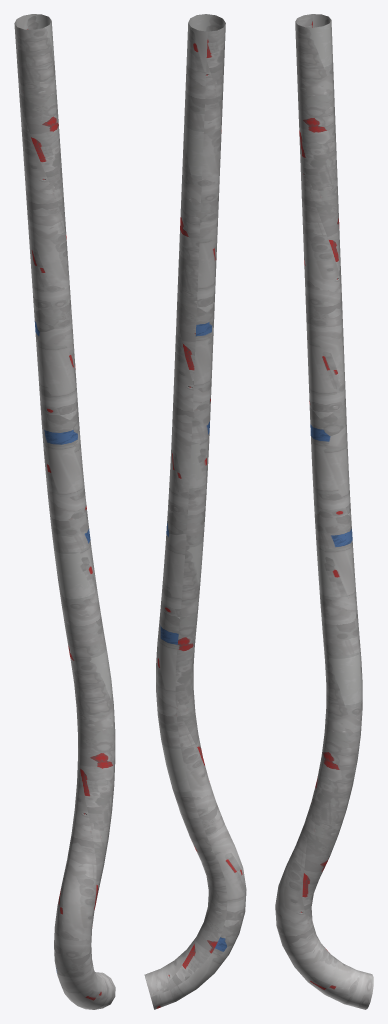
File: Pipe__12.fbx
3 renders of one model, left to right at view 1: azimuth 30°, elevation 25°; view 2: azimuth 150°, elevation 25°; view 3: azimuth 330°, elevation 25°, orthographic. The views are drawn at different scales.
Parts seen in each view (by area): view 1: MAT_Pipe_01; view 2: MAT_Pipe_01; view 3: MAT_Pipe_01.
Boxes of the visible parts, box(x1,y1,x2,y2) form: MAT_Pipe_01: box(14, 14, 115, 1009); MAT_Pipe_01: box(144, 14, 246, 1009); MAT_Pipe_01: box(275, 14, 373, 1009).
Bounding box in the file's own units: 1.73 × 18.81 × 1.68.
1 material, 1 textured.
